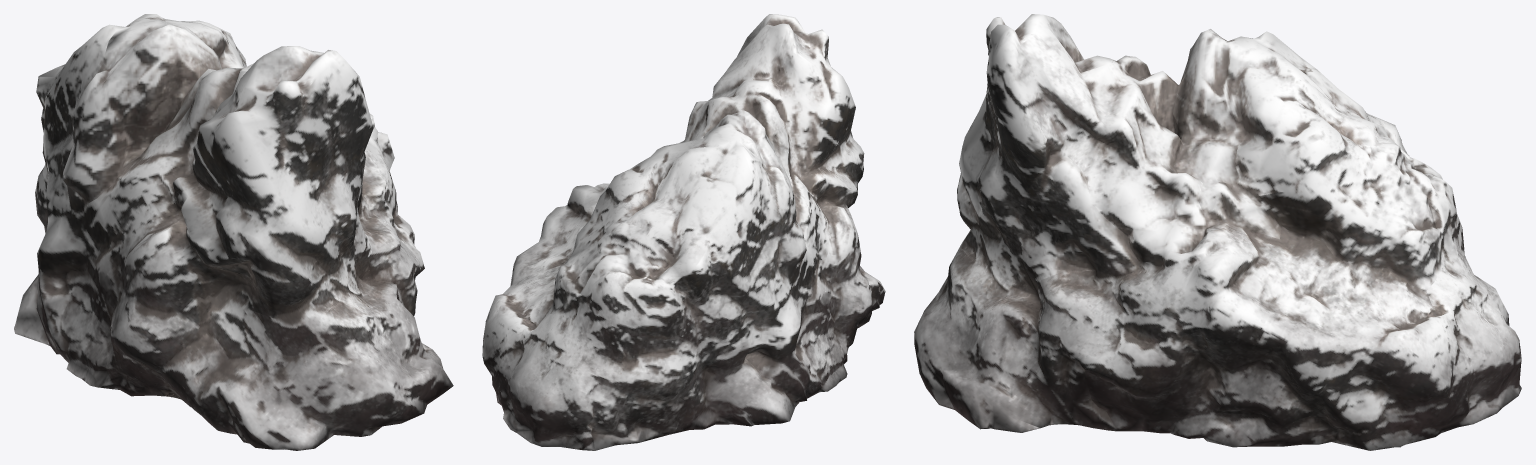
The model's file is RockFormation.obj.
The picture shows the model from 3 angles, left to right: view 1: azimuth 30°, elevation 25°; view 2: azimuth 150°, elevation 25°; view 3: azimuth 270°, elevation 25°; orthographic projection. The views are drawn at different scales.
Parts seen in each view (by area): view 1: D_Rock_Formation_CM; view 2: D_Rock_Formation_CM; view 3: D_Rock_Formation_CM.
Part boxes in pixels (<box>): D_Rock_Formation_CM: <box>14,14,453,450</box>; D_Rock_Formation_CM: <box>482,14,885,450</box>; D_Rock_Formation_CM: <box>914,14,1521,450</box>.
Bounding box in the file's own units: 24.25 × 24.03 × 37.85.
